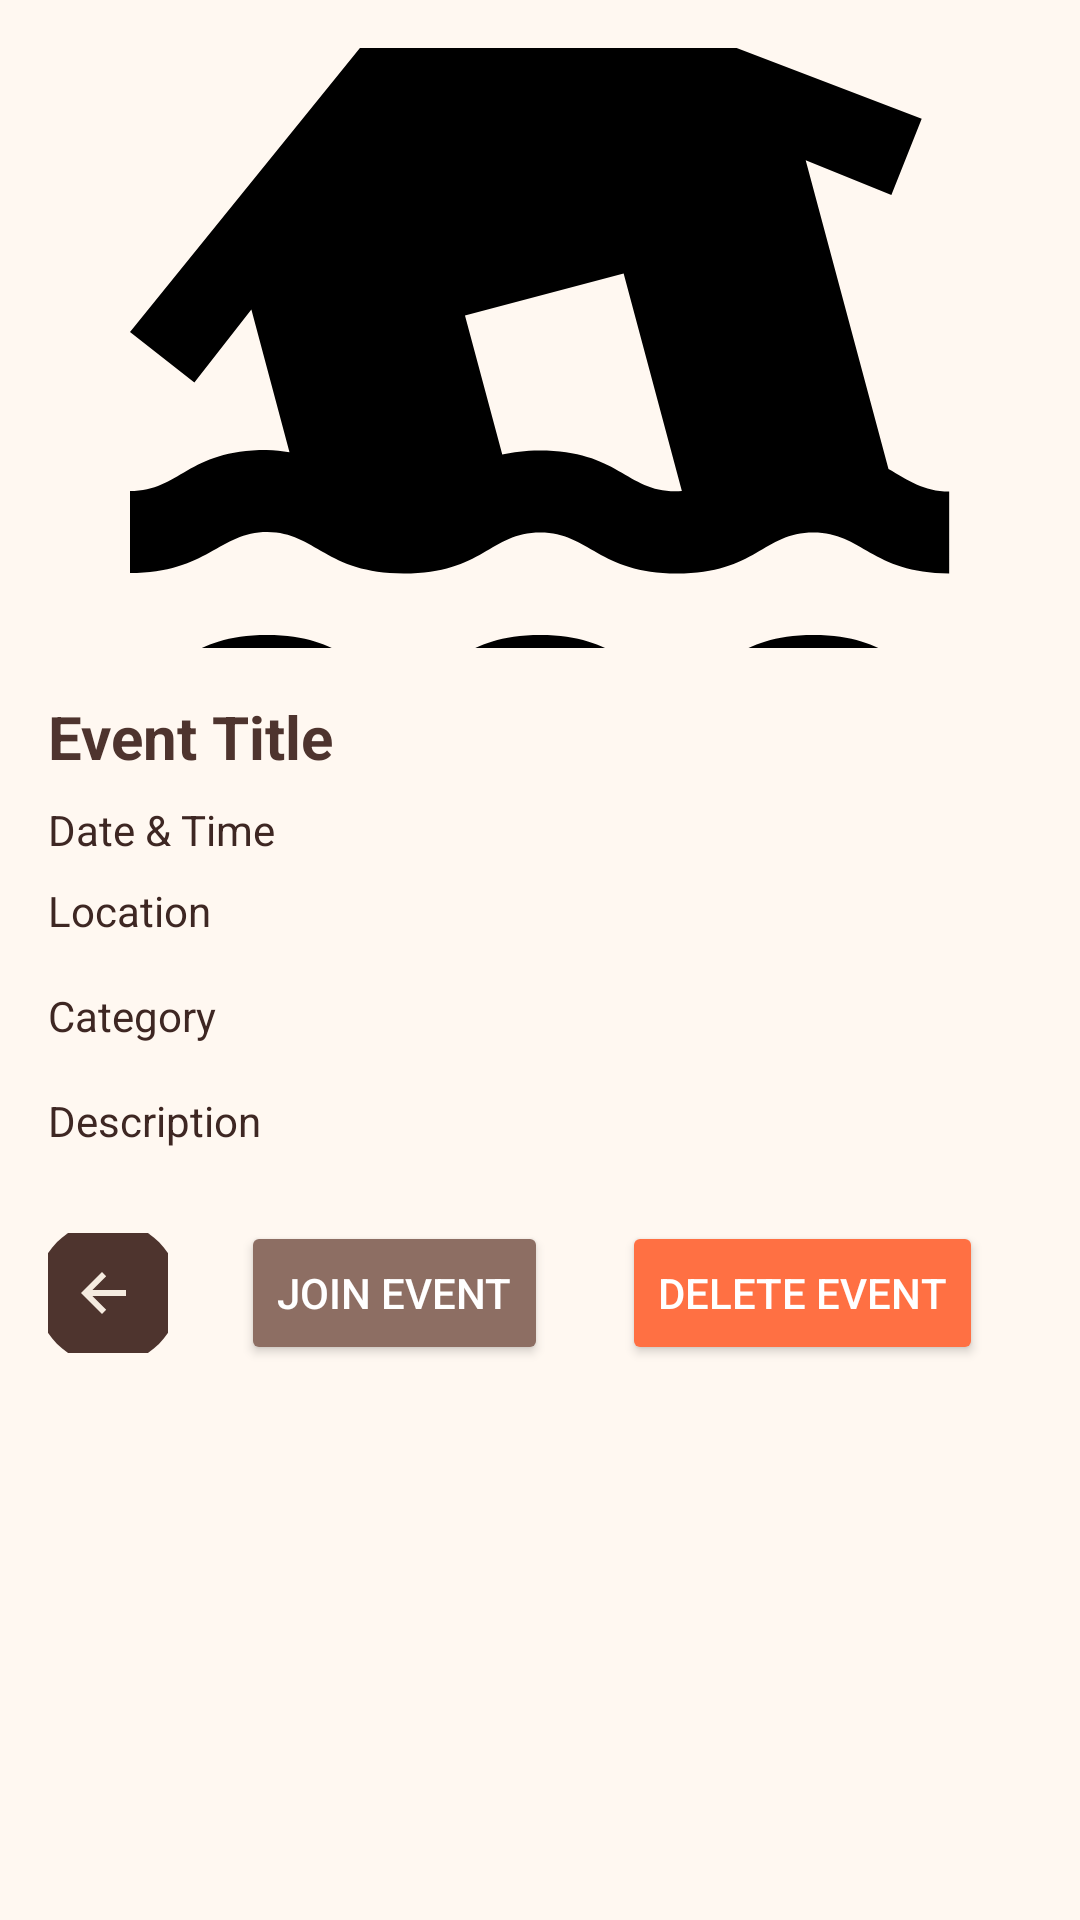

Point at icon controls on the screen. Image size 1080px×1920px, points as (x,y).
Back: (108,1293)
